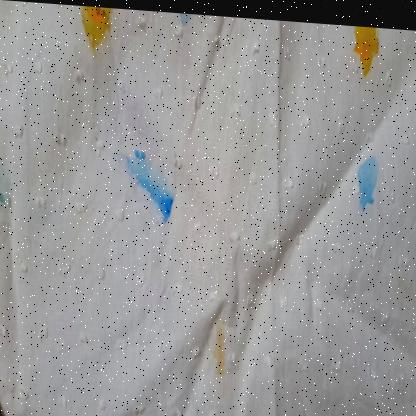spot: (78, 5, 117, 60), (351, 20, 383, 75), (353, 152, 382, 208), (122, 145, 150, 194), (156, 179, 174, 232), (211, 310, 224, 374), (146, 167, 160, 208), (178, 10, 194, 29), (0, 186, 8, 210)
